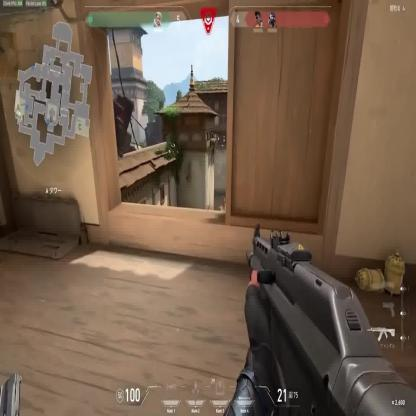enemy: (222, 194, 226, 210)
enemy_head: (223, 194, 224, 198)
